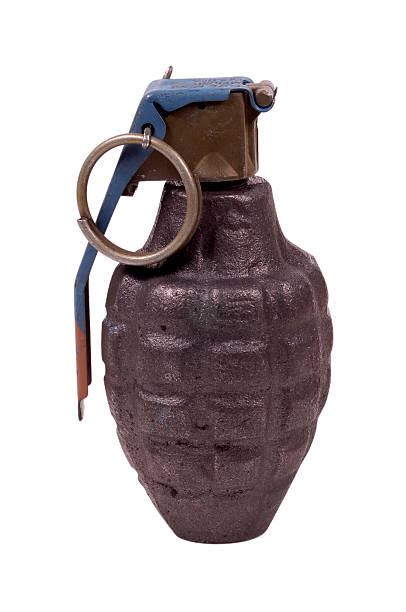e1: (73, 72, 335, 543)
